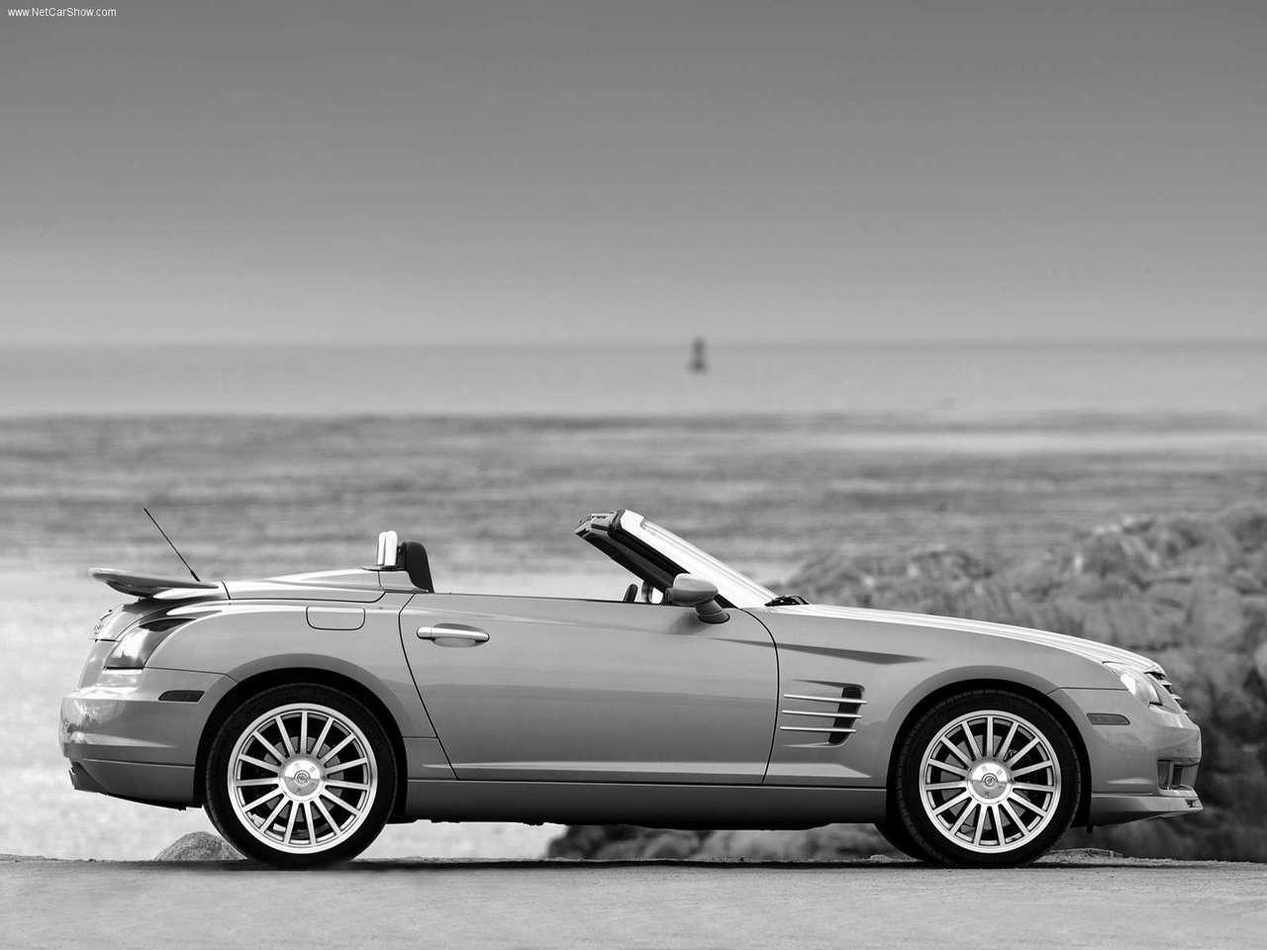car: (53, 510, 1208, 875)
